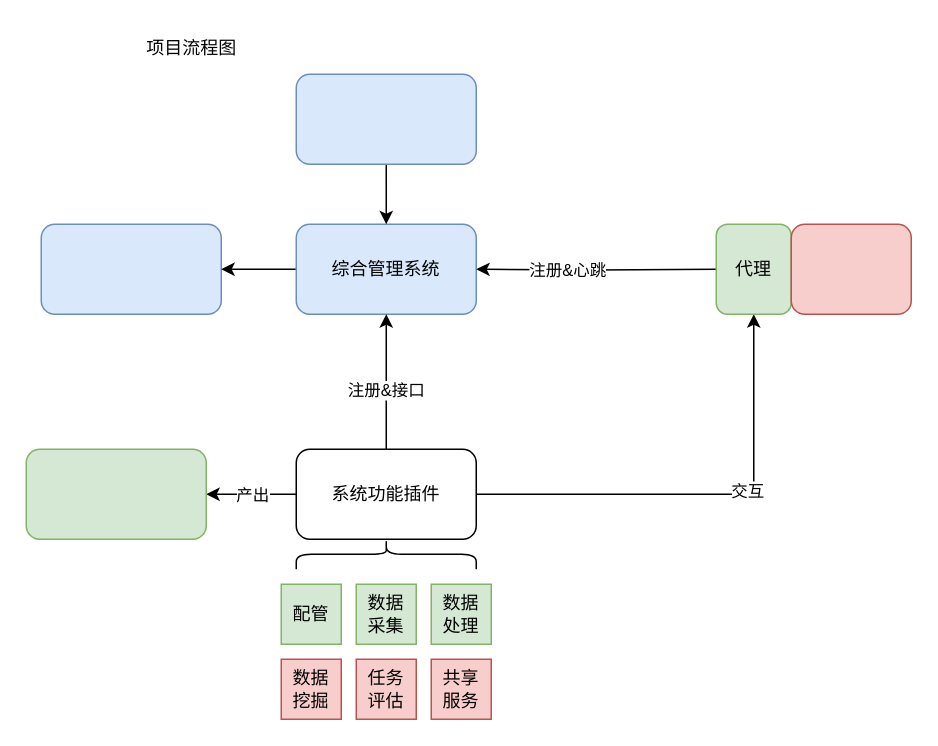
This 938x746 diagram has some shape labels left out. The centre of each missing label's shape, as x and y in pixels:
"攻击资源 （50工具）" belongs at point 850,268.
"数据中心" belongs at point 115,493.
"用户" belongs at point 385,118.
"靶场平台" belongs at point 130,268.
